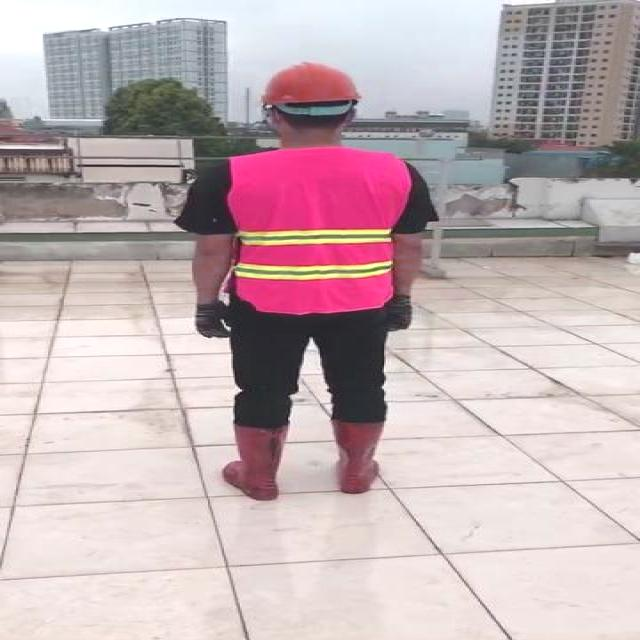boots: (217, 423, 291, 503), (329, 416, 393, 495)
hand_glove: (190, 298, 230, 340), (384, 292, 414, 332)
head_helmet: (260, 60, 362, 106)
person: (182, 55, 436, 505)
vest: (228, 148, 412, 310)
